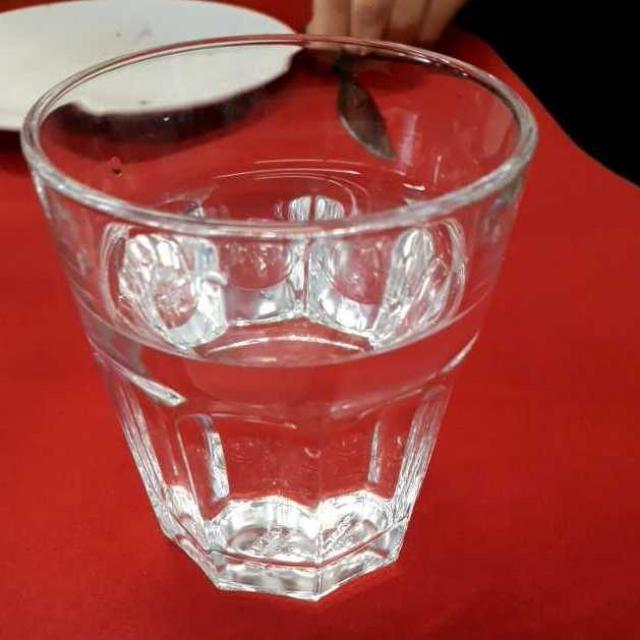water: (74, 152, 480, 592)
